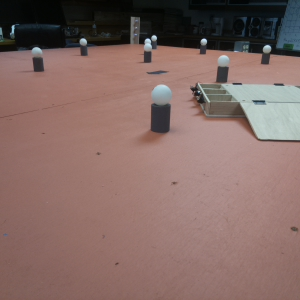obstacle: (151, 85, 172, 136), (30, 46, 45, 74), (217, 55, 230, 82), (261, 45, 271, 66), (78, 38, 89, 57), (143, 45, 151, 63), (199, 38, 207, 54), (145, 39, 153, 51), (151, 35, 157, 48)
side: (189, 82, 211, 118)
slope: (239, 101, 300, 143)
